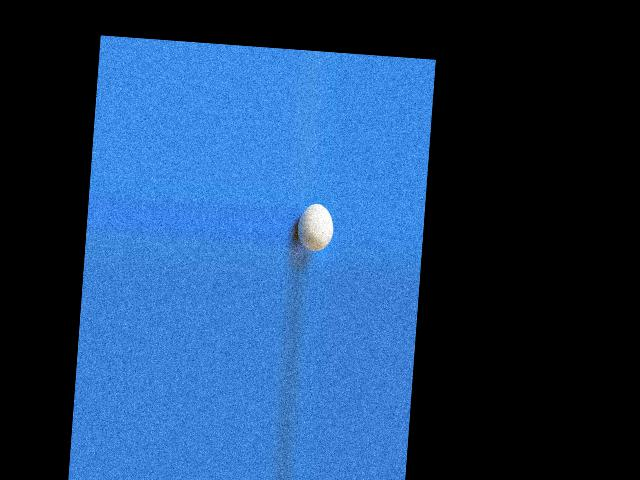egg: (295, 202, 334, 253)
